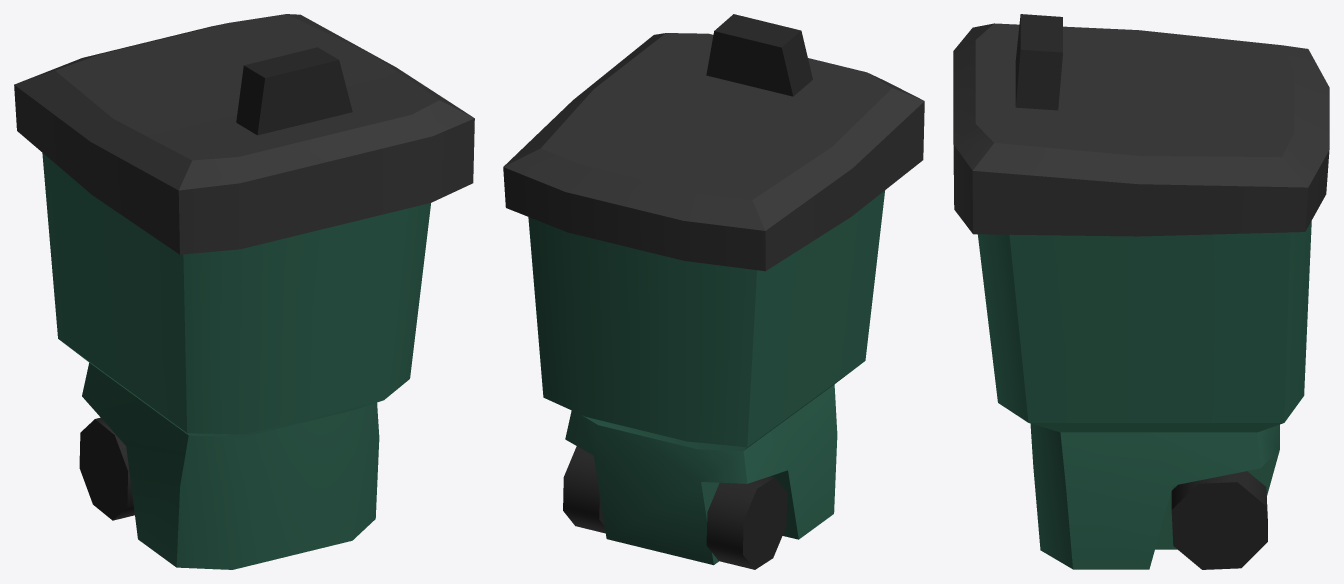
The model's file is trashcan_07.fbx.
3 renders of one model, left to right at view 1: azimuth 30°, elevation 25°; view 2: azimuth 150°, elevation 25°; view 3: azimuth 270°, elevation 25°, orthographic. The views are drawn at different scales.
Visible parts, largest first — view 1: trashcan_07; view 2: trashcan_07; view 3: trashcan_07.
Boxes of the visible parts, box(x1,y1,x2,y2) form: trashcan_07: box(14, 14, 474, 569); trashcan_07: box(503, 14, 924, 569); trashcan_07: box(953, 14, 1329, 569).
Size of the model in its own units: 64.14 by 99.25 by 68.97.
